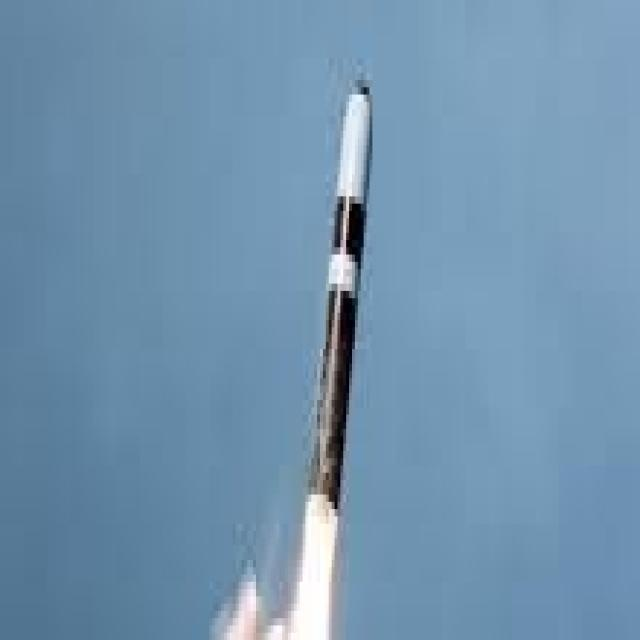missile: (300, 83, 382, 507)
